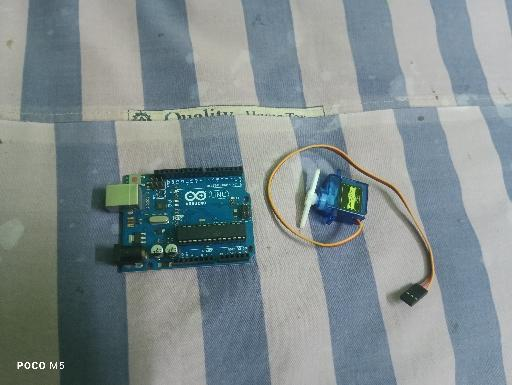Arduino: (105, 165, 256, 274)
Motor: (299, 166, 369, 229)
